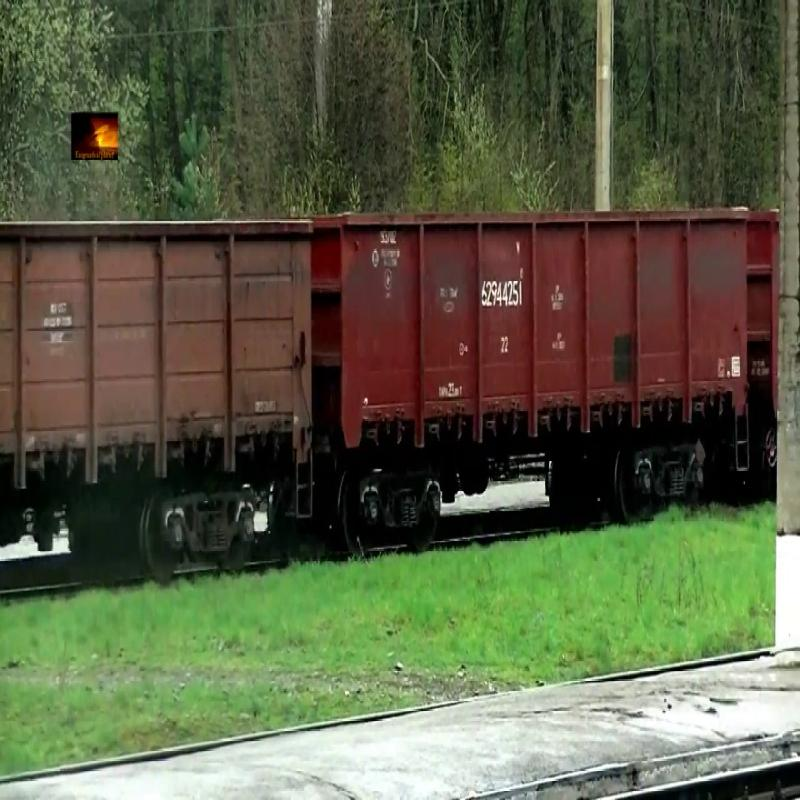train: (314, 209, 748, 454), (5, 219, 314, 494), (749, 209, 781, 411)
